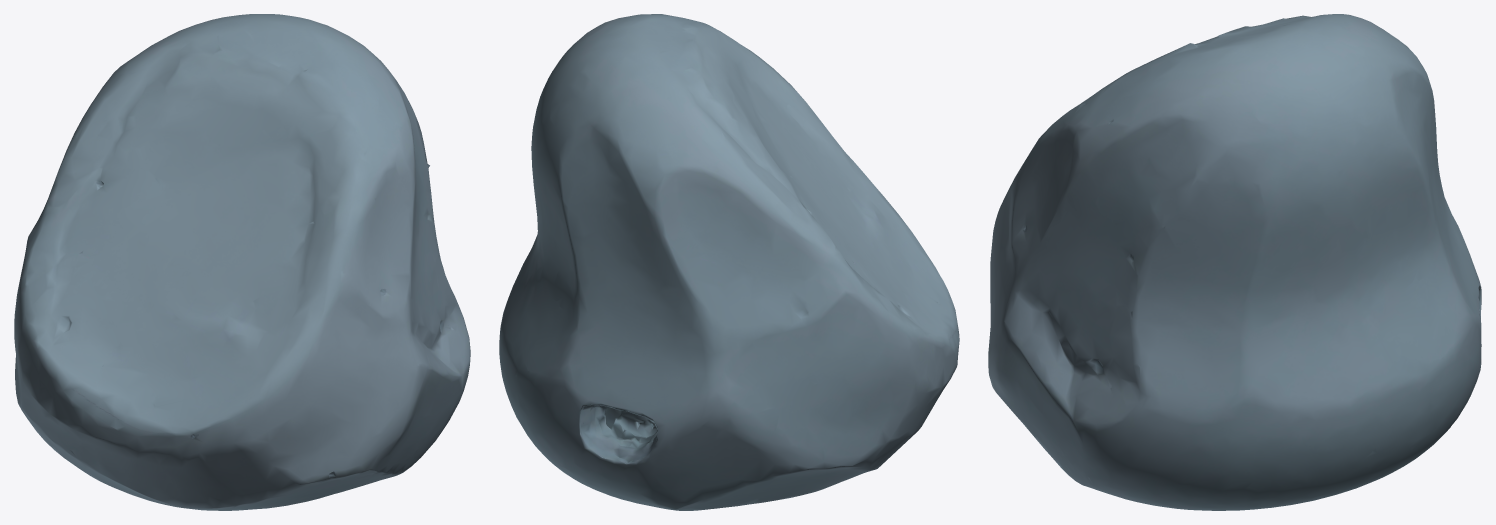
The model's file is rock.fbx.
3 renders of one model, left to right at view 1: azimuth 30°, elevation 25°; view 2: azimuth 150°, elevation 25°; view 3: azimuth 270°, elevation 25°, orthographic. The views are drawn at different scales.
Parts seen in each view (by area): view 1: tripo_node_aaa5da52; view 2: tripo_node_aaa5da52; view 3: tripo_node_aaa5da52.
Part boxes in pixels (left/top/right/bottom): tripo_node_aaa5da52: left=14, top=14, right=470, bottom=510; tripo_node_aaa5da52: left=499, top=14, right=959, bottom=510; tripo_node_aaa5da52: left=988, top=14, right=1481, bottom=510.
Size of the model in its own units: 1 by 0.9523 by 0.9701.
Materials: 1 (1 with a texture image).
